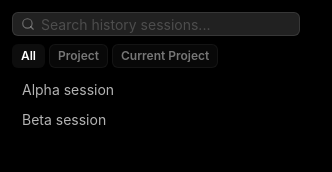
Test: ChatHistoryPanel › Project tag 展开项目选择器并清空未选项目的列表
expect the text "Select project" is not shown: met
Click the button "Project": (78, 56) [49,44,108,68]
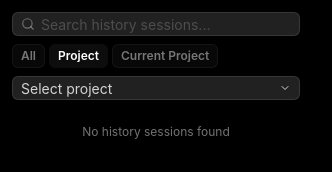
expect the text "Select project" is shown: met, box [21,80,112,96]
expect the button "Alpha session" is gone: met
expect the button "Beta session" is gone: met
